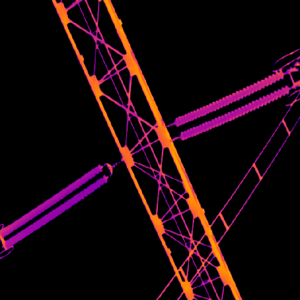insulator: (3, 173, 107, 250), (0, 161, 102, 238), (172, 66, 284, 128), (179, 82, 289, 141)
